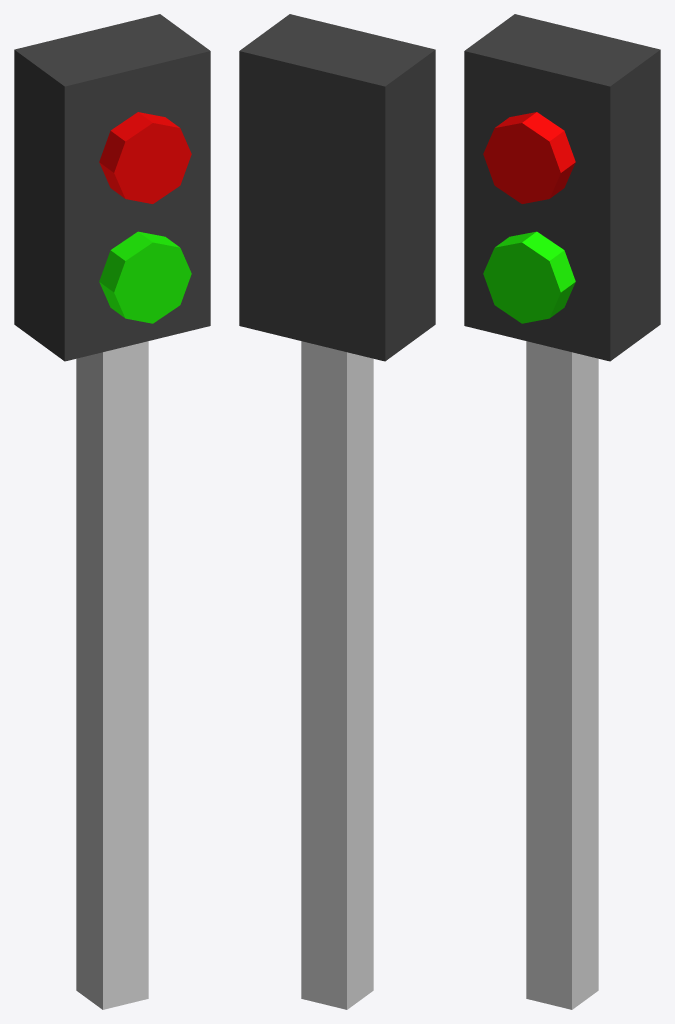
File: Semaforo.fbx
The picture shows the model from 3 angles, left to right: view 1: azimuth 30°, elevation 25°; view 2: azimuth 150°, elevation 25°; view 3: azimuth 330°, elevation 25°; orthographic projection.
Visible parts, largest first — view 1: Cube; view 2: Cube; view 3: Cube.
Part boxes in pixels (x1,y1,x2,y2): Cube: (14,14,210,1009); Cube: (239,14,435,1009); Cube: (464,14,660,1009).
Size of the model in its own units: 63.86 by 395 by 49.82.
